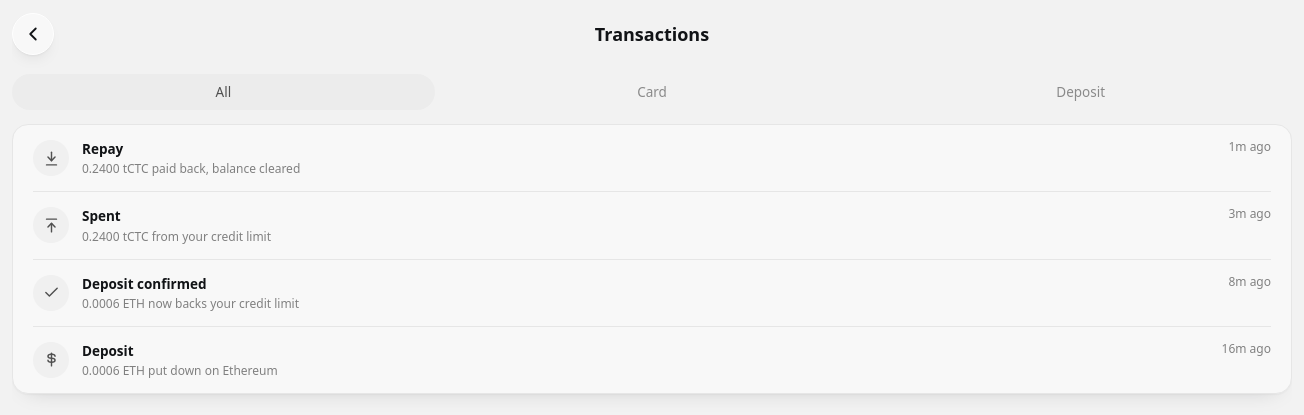
Test: Card and Deposit each show only their own rows
The width and height of the screenshot is (1304, 415).
Click the button "Card" at (652, 92), box [441, 74, 863, 110]
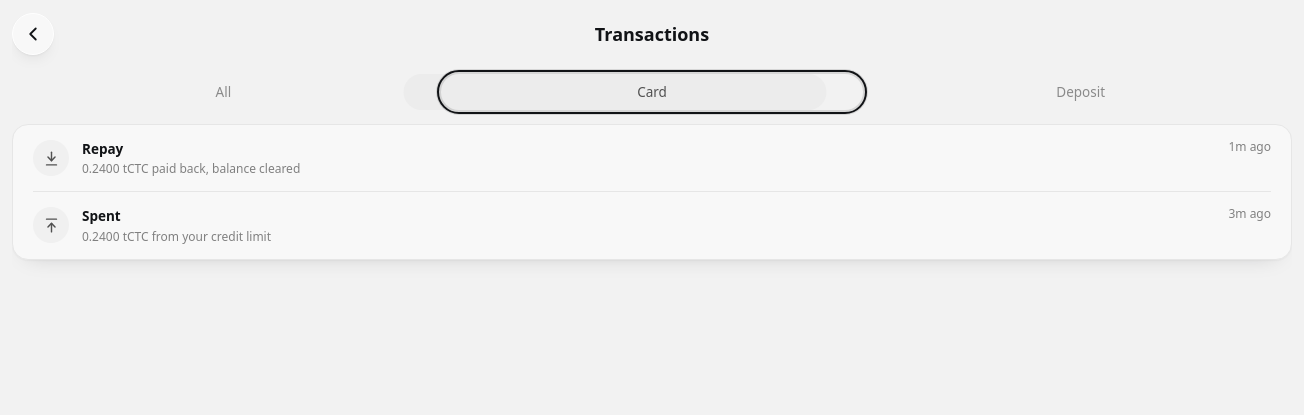
Expected: the text "Spent" is shown, [82, 206, 121, 227]
Click the button "Deposit" at (1081, 92), box [869, 74, 1292, 110]
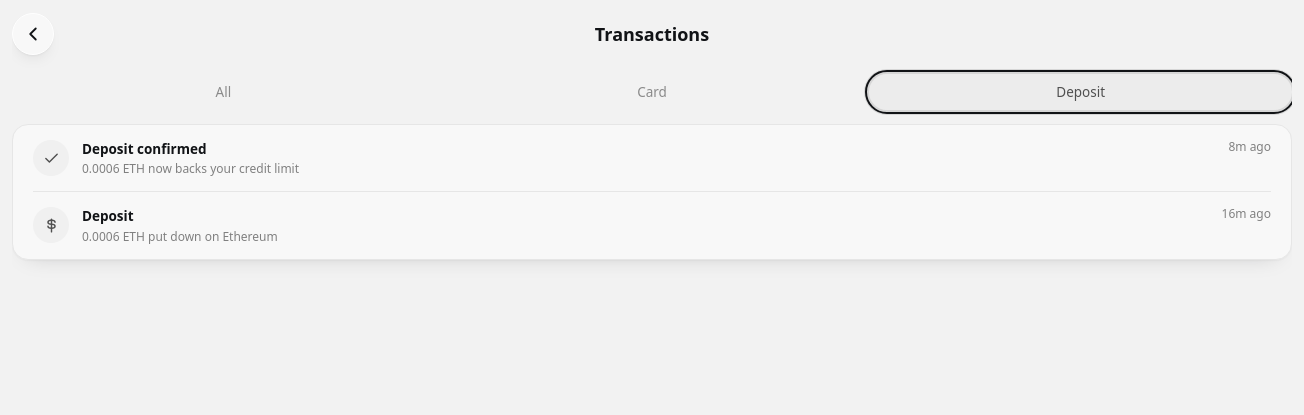
Expected: the text "Deposit" is shown, [82, 206, 134, 227]
Expected: the link "Spent" is gone
